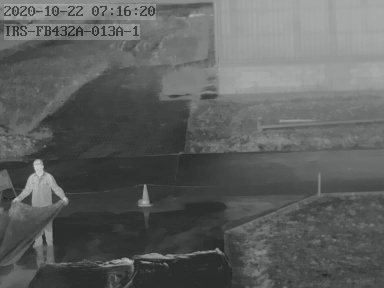person: (13, 158, 68, 246)
